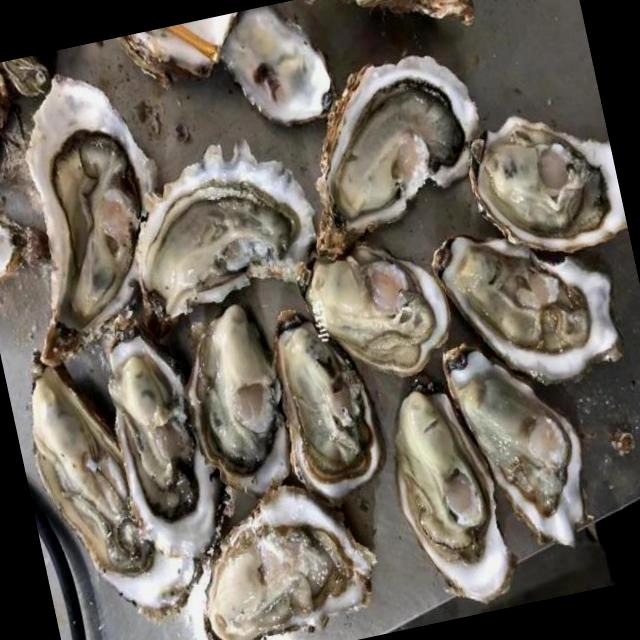Oyster-Closed: (275, 0, 483, 34), (0, 198, 47, 291)
Oyster-Open: (24, 336, 203, 631), (20, 57, 161, 370), (308, 40, 484, 269), (133, 128, 317, 337), (434, 334, 597, 552), (98, 301, 230, 562), (422, 224, 627, 392), (390, 365, 529, 604), (197, 480, 387, 640), (460, 91, 630, 258), (265, 299, 387, 509), (298, 234, 457, 389), (181, 295, 288, 505), (218, 3, 346, 128)
